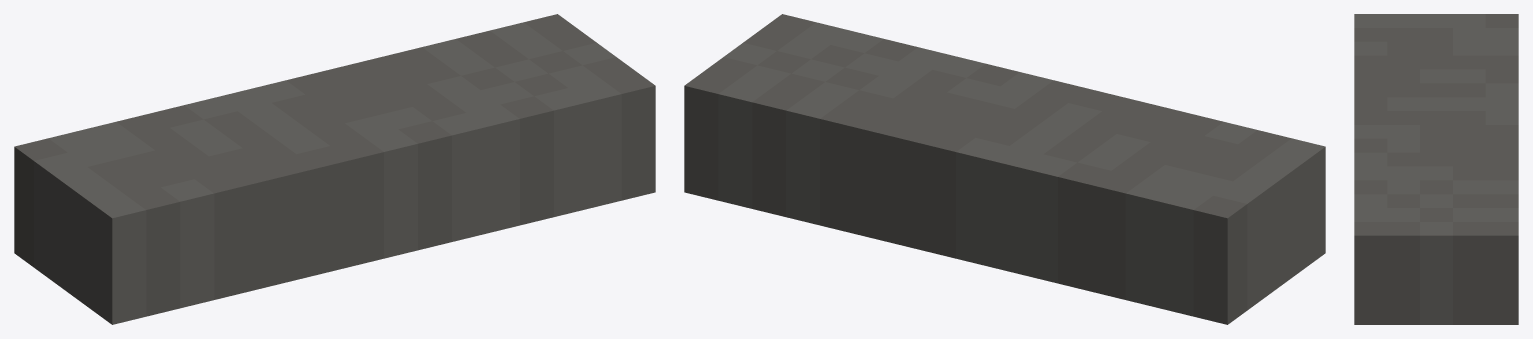
File: tavern-67-floor_edgestone.obj
The picture shows the model from 3 angles, left to right: view 1: azimuth 30°, elevation 25°; view 2: azimuth 150°, elevation 25°; view 3: azimuth 270°, elevation 25°; orthographic projection. The views are drawn at different scales.
Parts seen in each view (by area): view 1: floor_edgestone; view 2: floor_edgestone; view 3: floor_edgestone.
Boxes of the visible parts, <box> form: floor_edgestone: <box>14,14,655,324</box>; floor_edgestone: <box>684,14,1325,324</box>; floor_edgestone: <box>1354,14,1518,324</box>.
Size of the model in its own units: 1.6 by 0.3 by 0.5.
Materials: 1 (1 with a texture image).
